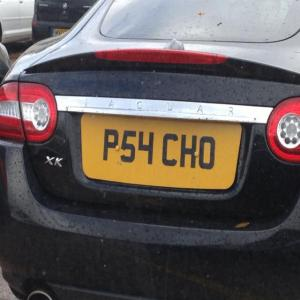Plate: (81, 113, 242, 190)
